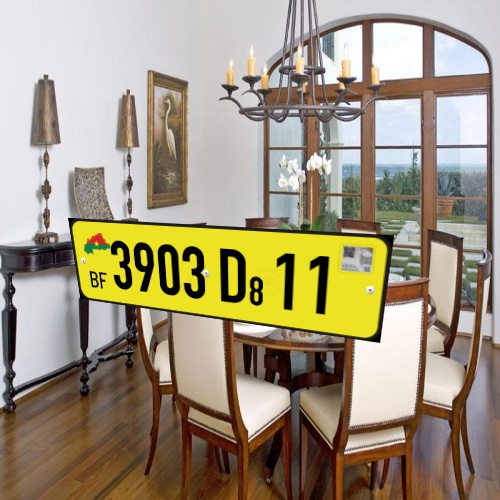plate: (54, 203, 402, 361)
